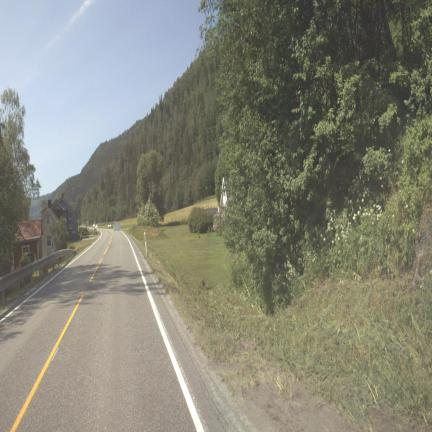Road: (0, 230, 236, 430)
